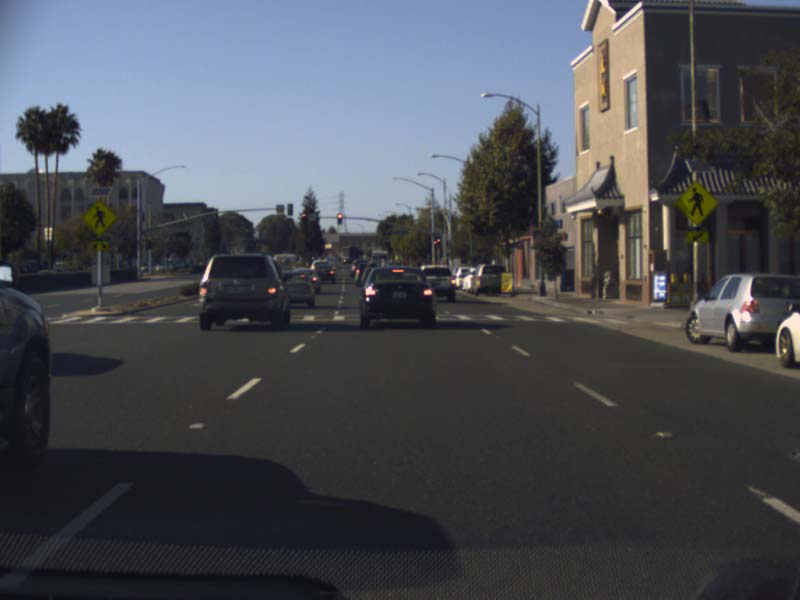Red: (433, 235, 440, 246), (336, 212, 341, 224), (301, 212, 306, 223)
